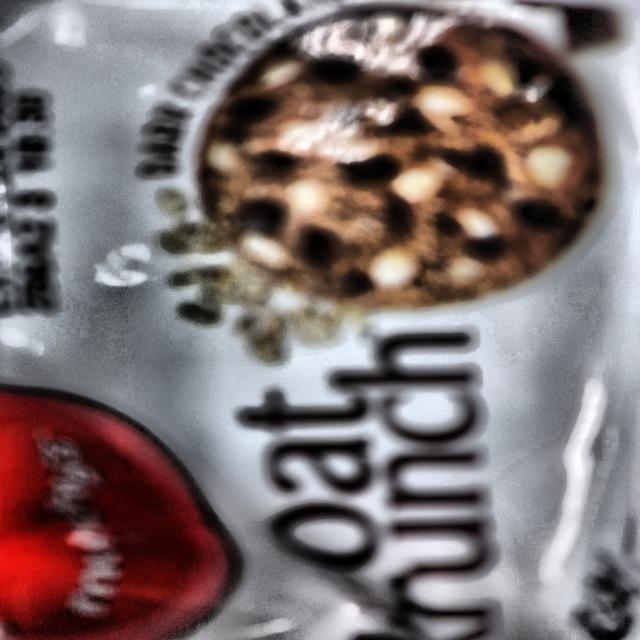Plastic: (0, 0, 630, 635)
